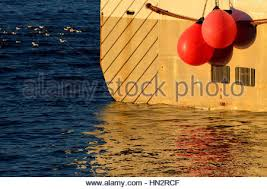buoy: (178, 23, 214, 66), (201, 9, 238, 49)
